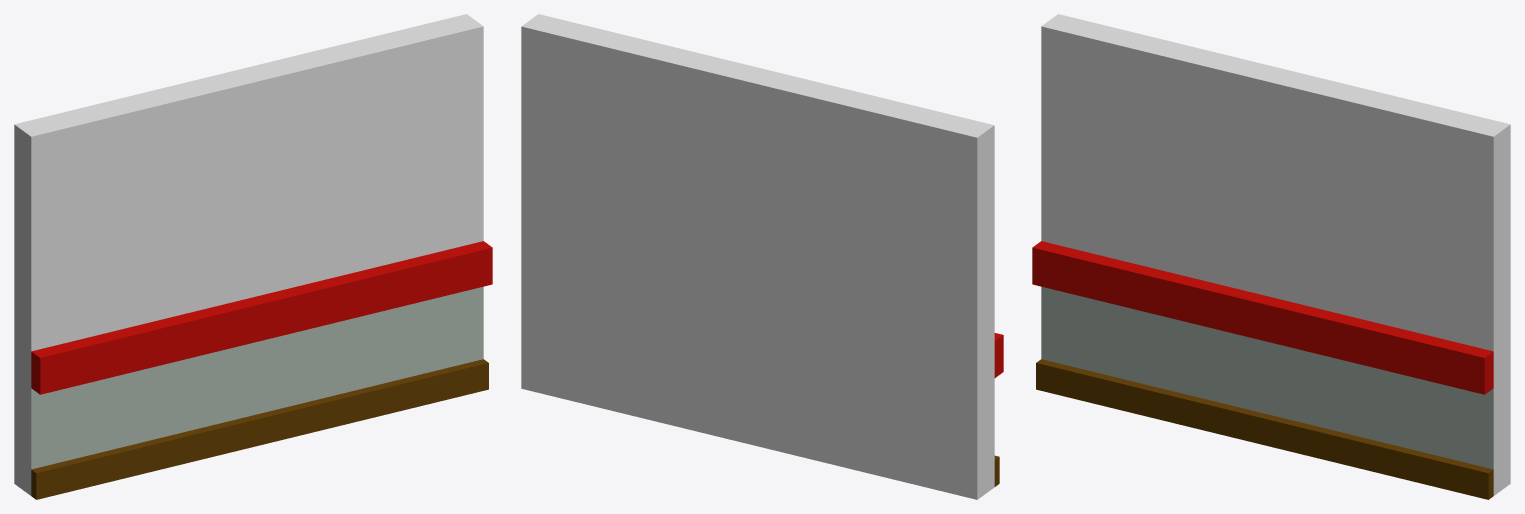
The model's file is H_Wall_Medium_Reception.fbx.
The picture shows the model from 3 angles, left to right: view 1: azimuth 30°, elevation 25°; view 2: azimuth 150°, elevation 25°; view 3: azimuth 330°, elevation 25°; orthographic projection.
Parts seen in each view (by area): view 1: H_Wall_Medium_Reception; view 2: H_Wall_Medium_Reception; view 3: H_Wall_Medium_Reception.
Boxes of the visible parts, <box> form: H_Wall_Medium_Reception: <box>14,14,492,499</box>; H_Wall_Medium_Reception: <box>521,14,1003,499</box>; H_Wall_Medium_Reception: <box>1032,14,1510,499</box>.
Bounding box in the file's own units: 2000 × 199 × 1518.
